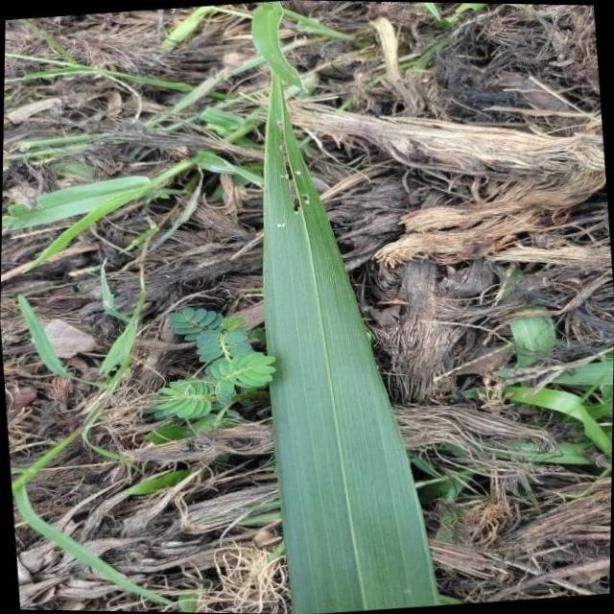Boron: (250, 0, 442, 614)
